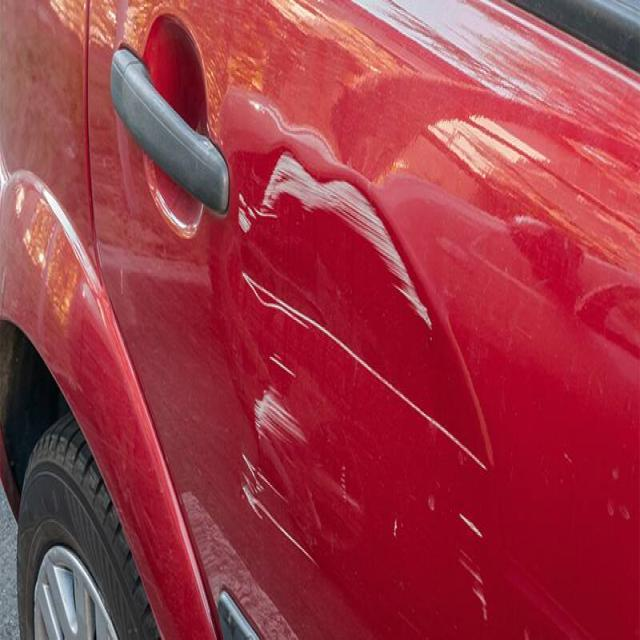Dent: (235, 129, 495, 582)
